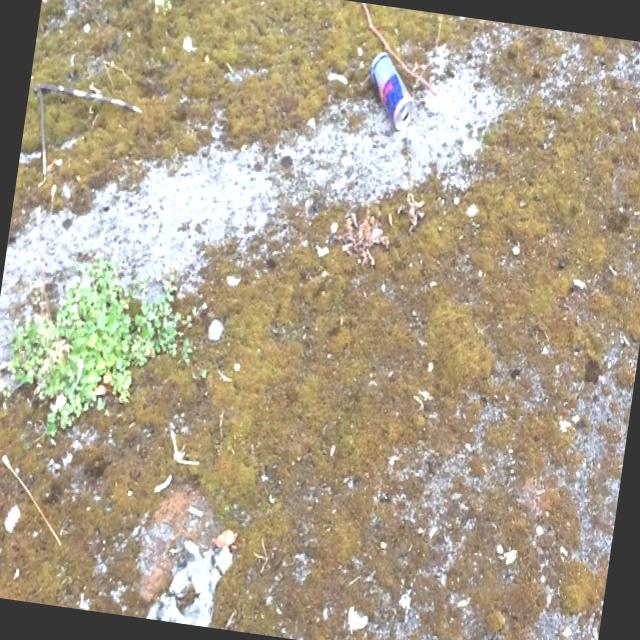Trash: (362, 49, 423, 138)
